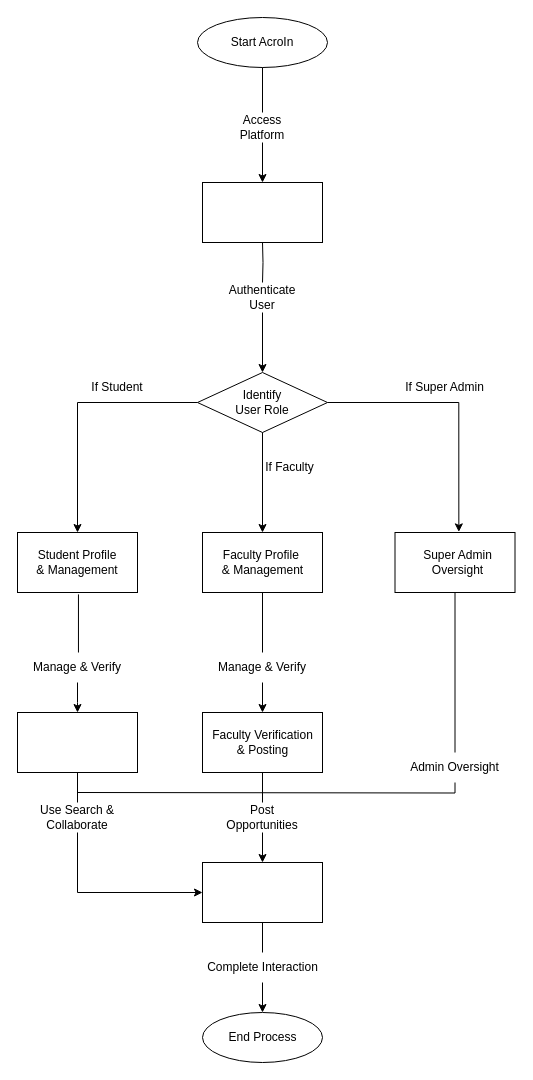
This 533x1080 diagram has some shape labels left out. The shapes that lost their labels are listed below. From the top down, each one's box as (x1, y1, x2, y2) in pixels, then its label:
(202, 182, 322, 242): User Authentication
(16, 712, 138, 772): Student Search & Communication
(202, 862, 322, 922): Opportunity Posting & Collaboration
